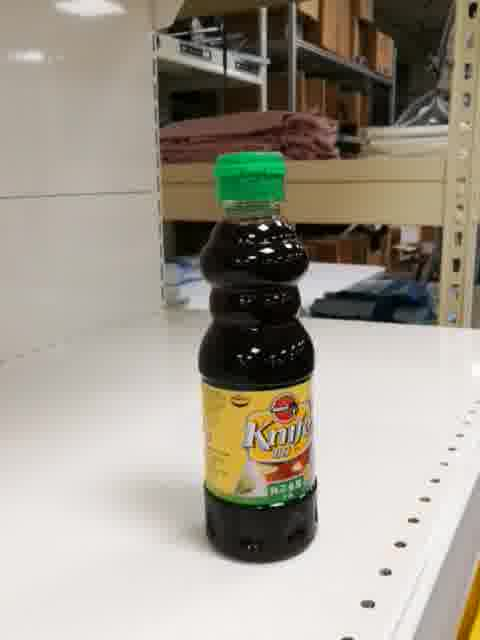cookingoil: (196, 148, 322, 567)
